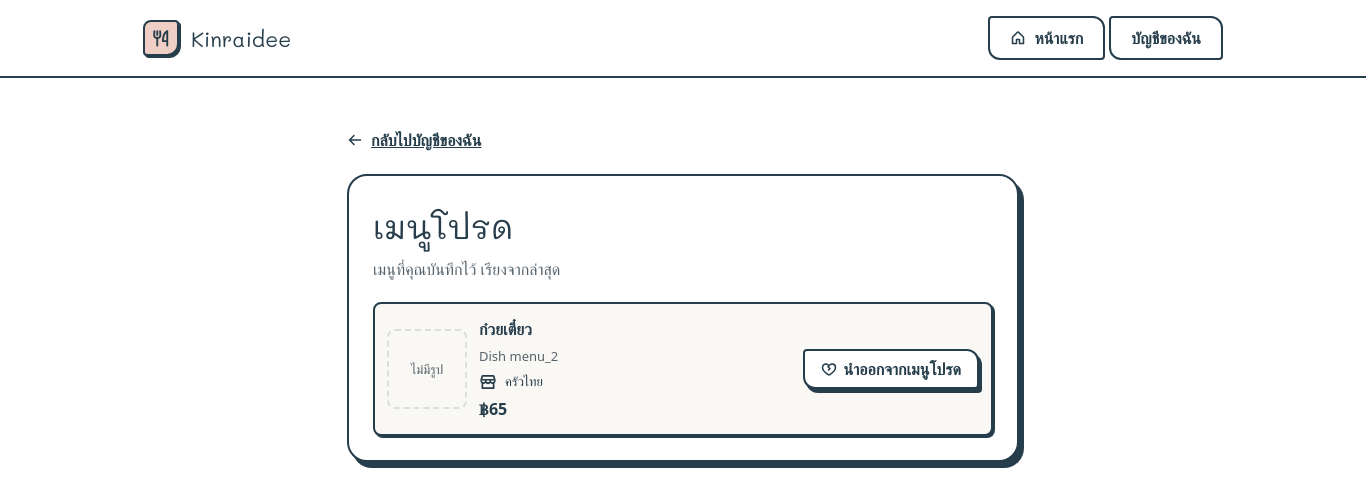
it: FavoritesPage › keeps focus on the page after the last favorite is removed
Check: the list named "รายการเมนูโปรด" is shown, box top-left (373, 302), bottom-right (993, 436)
Click the button "นำออกจากเมนูโปรด" at (891, 369), box top-left (804, 349), bottom-right (979, 389)
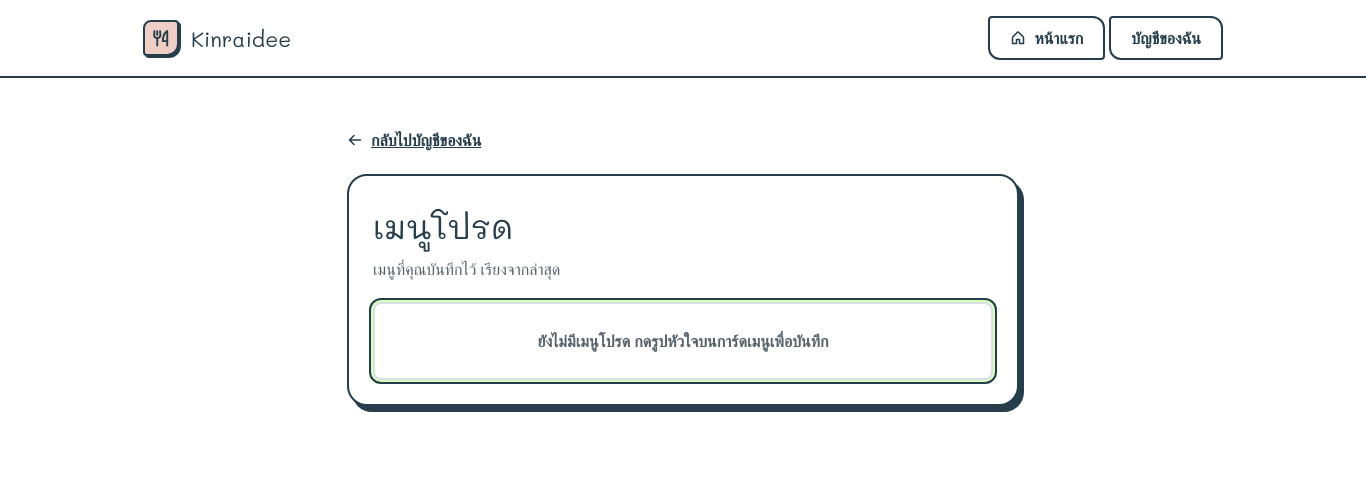
Check: the text "ยังไม่มีเมนูโปรด กดรูปหัวใจบนการ์ดเมนูเพื่อบันทึก" is shown, box top-left (373, 302), bottom-right (993, 380)
